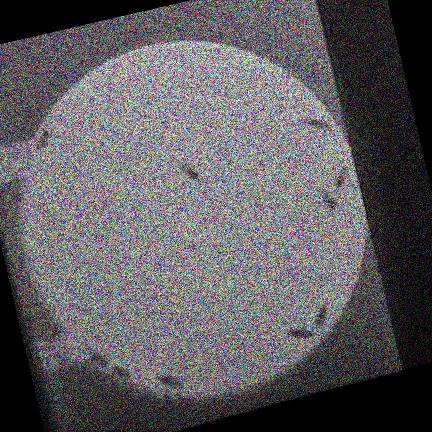fly: (88, 349, 110, 367), (305, 117, 332, 131), (179, 163, 200, 180), (158, 375, 183, 389), (316, 303, 329, 329), (288, 327, 315, 339), (321, 190, 337, 209), (335, 166, 349, 187), (36, 130, 51, 149), (112, 366, 130, 379)
